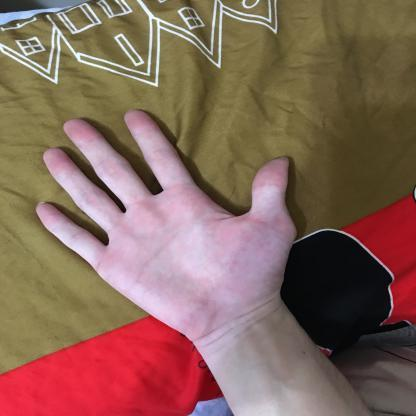bare_hand: (31, 101, 308, 365)
